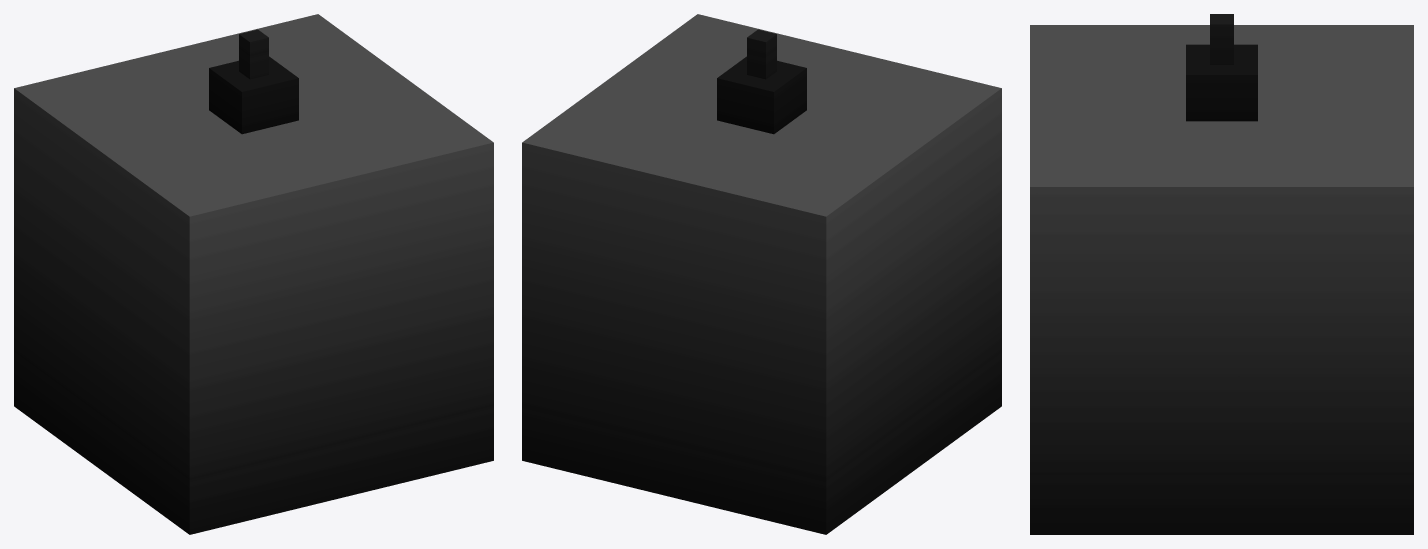
File: bomb-cube.fbx
The picture shows the model from 3 angles, left to right: view 1: azimuth 30°, elevation 25°; view 2: azimuth 150°, elevation 25°; view 3: azimuth 270°, elevation 25°; orthographic projection. The views are drawn at different scales.
Parts seen in each view (by area): view 1: bomb-cube; view 2: bomb-cube; view 3: bomb-cube.
Boxes of the visible parts, x1,y1,x2,y2 form: bomb-cube: (14,14,493,534); bomb-cube: (522,14,1001,534); bomb-cube: (1030,14,1413,534).
Size of the model in its own units: 123 by 154 by 123.
